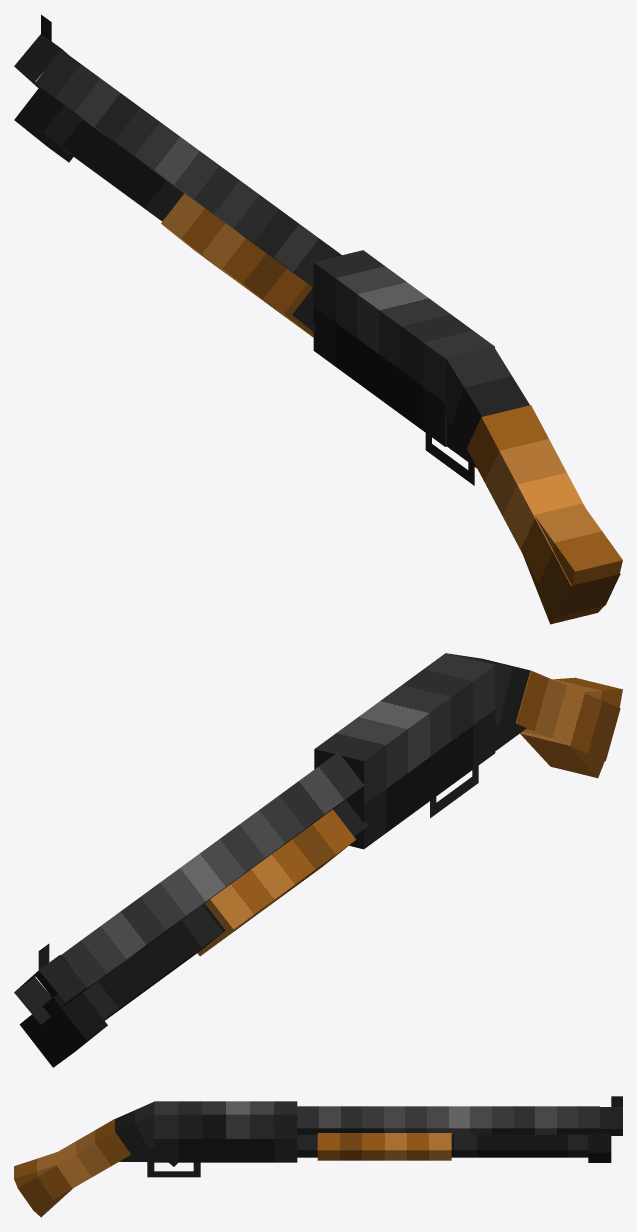
3 renders of one model, top to bottom at view 1: azimuth 30°, elevation 25°; view 2: azimuth 150°, elevation 25°; view 3: azimuth 270°, elevation 25°, orthographic. The views are drawn at different scales.
Visible parts, largest first — view 1: cube (×9); view 2: cube (×10); view 3: cube (×12).
Boxes of the visible parts, <box> form: cube (×9): <box>14,34,622,617</box>; cube (×10): <box>14,653,622,1067</box>; cube (×12): <box>14,1101,622,1217</box>.
Bounding box in the file's own units: 0.1152 × 0.3444 × 1.65.
1 material, 1 textured.
